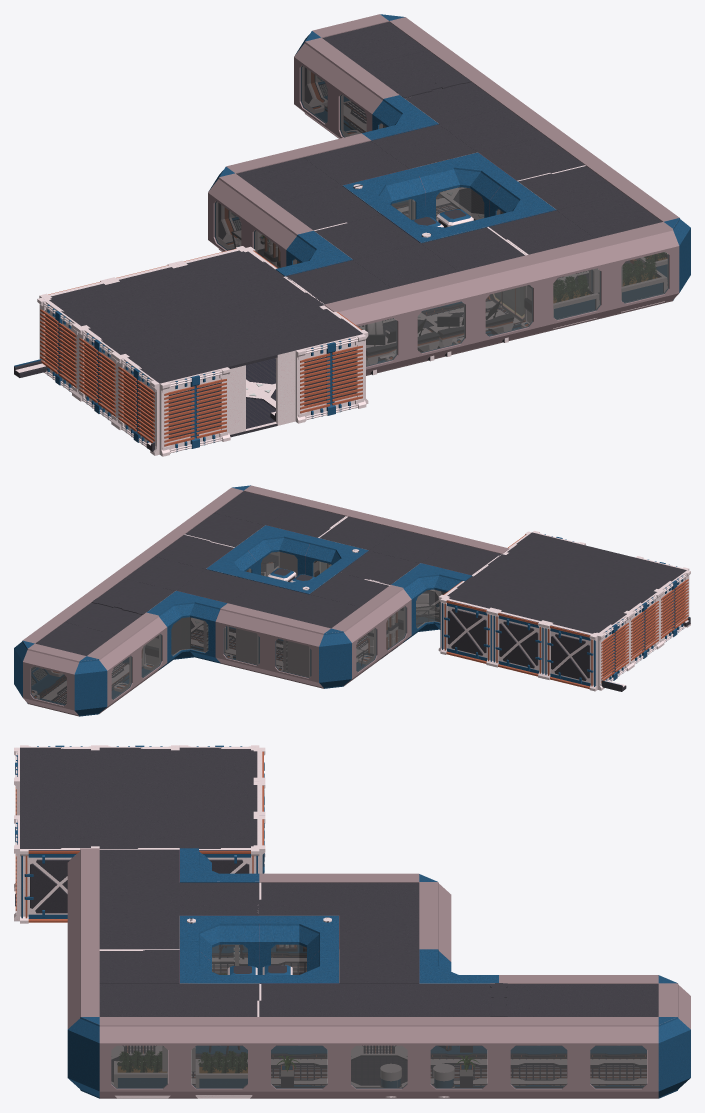
Rendered from L1- Science Lab - Q Space_v1.fbx.
The picture shows the model from 3 angles, top to bottom: view 1: azimuth 30°, elevation 25°; view 2: azimuth 150°, elevation 25°; view 3: azimuth 270°, elevation 25°; orthographic projection. The views are drawn at different scales.
Visible parts, largest first — view 1: decorative_wall_1_LOD0_6, decorative_wall_1_LOD0_4, window_big_plug_5.002, window_big_plug_5.001, window_big_plug_5, window_big_plug_4, window_big_corner_plug, decorative_wall_1_LOD0_7, decorative_wall_1_LOD0_8, decorative_wall_1_LOD0_5, floor_5__13_, window_big_plug_3 (+62 smaller); view 2: decorative_wall_3_LOD0_2, decorative_wall_3_LOD0_8, decorative_wall_3_LOD0_7, window_big_corner_plug_1, window_big_plug_2.007, window_big_plug_2.006, window_big_plug_2.005, window_big_corner_plug_2, window_big_corner_plug_4, decorative_wall_1_LOD0_5, window_big_corner_far_plug__1__1.001, decorative_wall_1_LOD0_8 (+64 smaller); view 3: window_big_plug_1, window_big_plug, window_big_plug_2.001, window_big_plug_2.003, window_big_plug_2, window_big_plug_5.003, window_big_plug_5.004, decorative_wall_3_LOD0_4, window_big_corner_plug_5, window_big_corner_plug_3, floor_5__12_, floor_2_no_lattice_LOD0_5 (+61 smaller).
Boxes of the visible parts, <box> form: decorative_wall_1_LOD0_6: <box>159,367,230,456</box>; decorative_wall_1_LOD0_4: <box>295,334,366,423</box>; window_big_plug_5.002: <box>596,222,679,317</box>; window_big_plug_5.001: <box>528,238,611,333</box>; window_big_plug_5: <box>460,255,543,350</box>; window_big_plug_4: <box>392,271,475,366</box>; window_big_corner_plug: <box>411,152,516,219</box>; decorative_wall_1_LOD0_7: <box>115,355,159,455</box>; decorative_wall_1_LOD0_8: <box>76,326,119,426</box>; decorative_wall_1_LOD0_5: <box>37,297,80,397</box>; floor_5__13_: <box>189,322,294,368</box>; window_big_plug_3: <box>324,288,407,375</box>; decorative_wall_3_LOD0_2: <box>543,623,597,691</box>; decorative_wall_3_LOD0_8: <box>440,598,493,665</box>; decorative_wall_3_LOD0_7: <box>492,610,545,678</box>; window_big_corner_plug_1: <box>146,590,227,669</box>; window_big_plug_2.007: <box>215,603,278,675</box>; window_big_plug_2.006: <box>267,616,330,688</box>; window_big_plug_2.005: <box>23,643,86,716</box>; window_big_corner_plug_2: <box>391,563,471,642</box>; window_big_corner_plug_4: <box>236,525,316,575</box>; decorative_wall_1_LOD0_5: <box>597,614,631,690</box>; window_big_corner_far_plug__1__1.001: <box>74,656,107,716</box>; decorative_wall_1_LOD0_8: <box>628,592,660,668</box>; window_big_plug_1: <box>339,1017,419,1098</box>; window_big_plug: <box>259,1017,339,1098</box>; window_big_plug_2.001: <box>499,1017,578,1098</box>; window_big_plug_2.003: <box>579,1017,658,1098</box>; window_big_plug_2: <box>419,1017,498,1098</box>; window_big_plug_5.003: <box>99,1017,179,1098</box>; window_big_plug_5.004: <box>179,1017,259,1098</box>; decorative_wall_3_LOD0_4: <box>20,849,80,923</box>; window_big_corner_plug_5: <box>259,915,339,974</box>; window_big_corner_plug_3: <box>179,915,259,974</box>; floor_5__12_: <box>99,781,179,815</box>; floor_2_no_lattice_LOD0_5: <box>99,882,179,916</box>.
Bounding box in the file's own units: 3539 × 414 × 3392.
